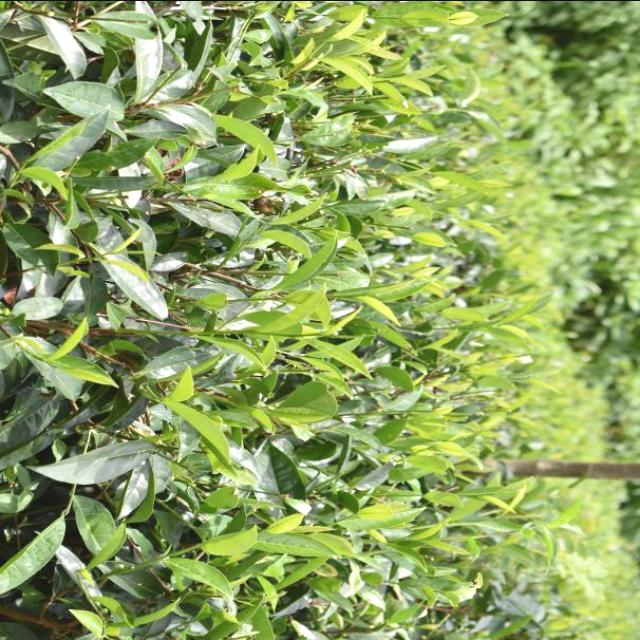Stem: (291, 334, 296, 336)
